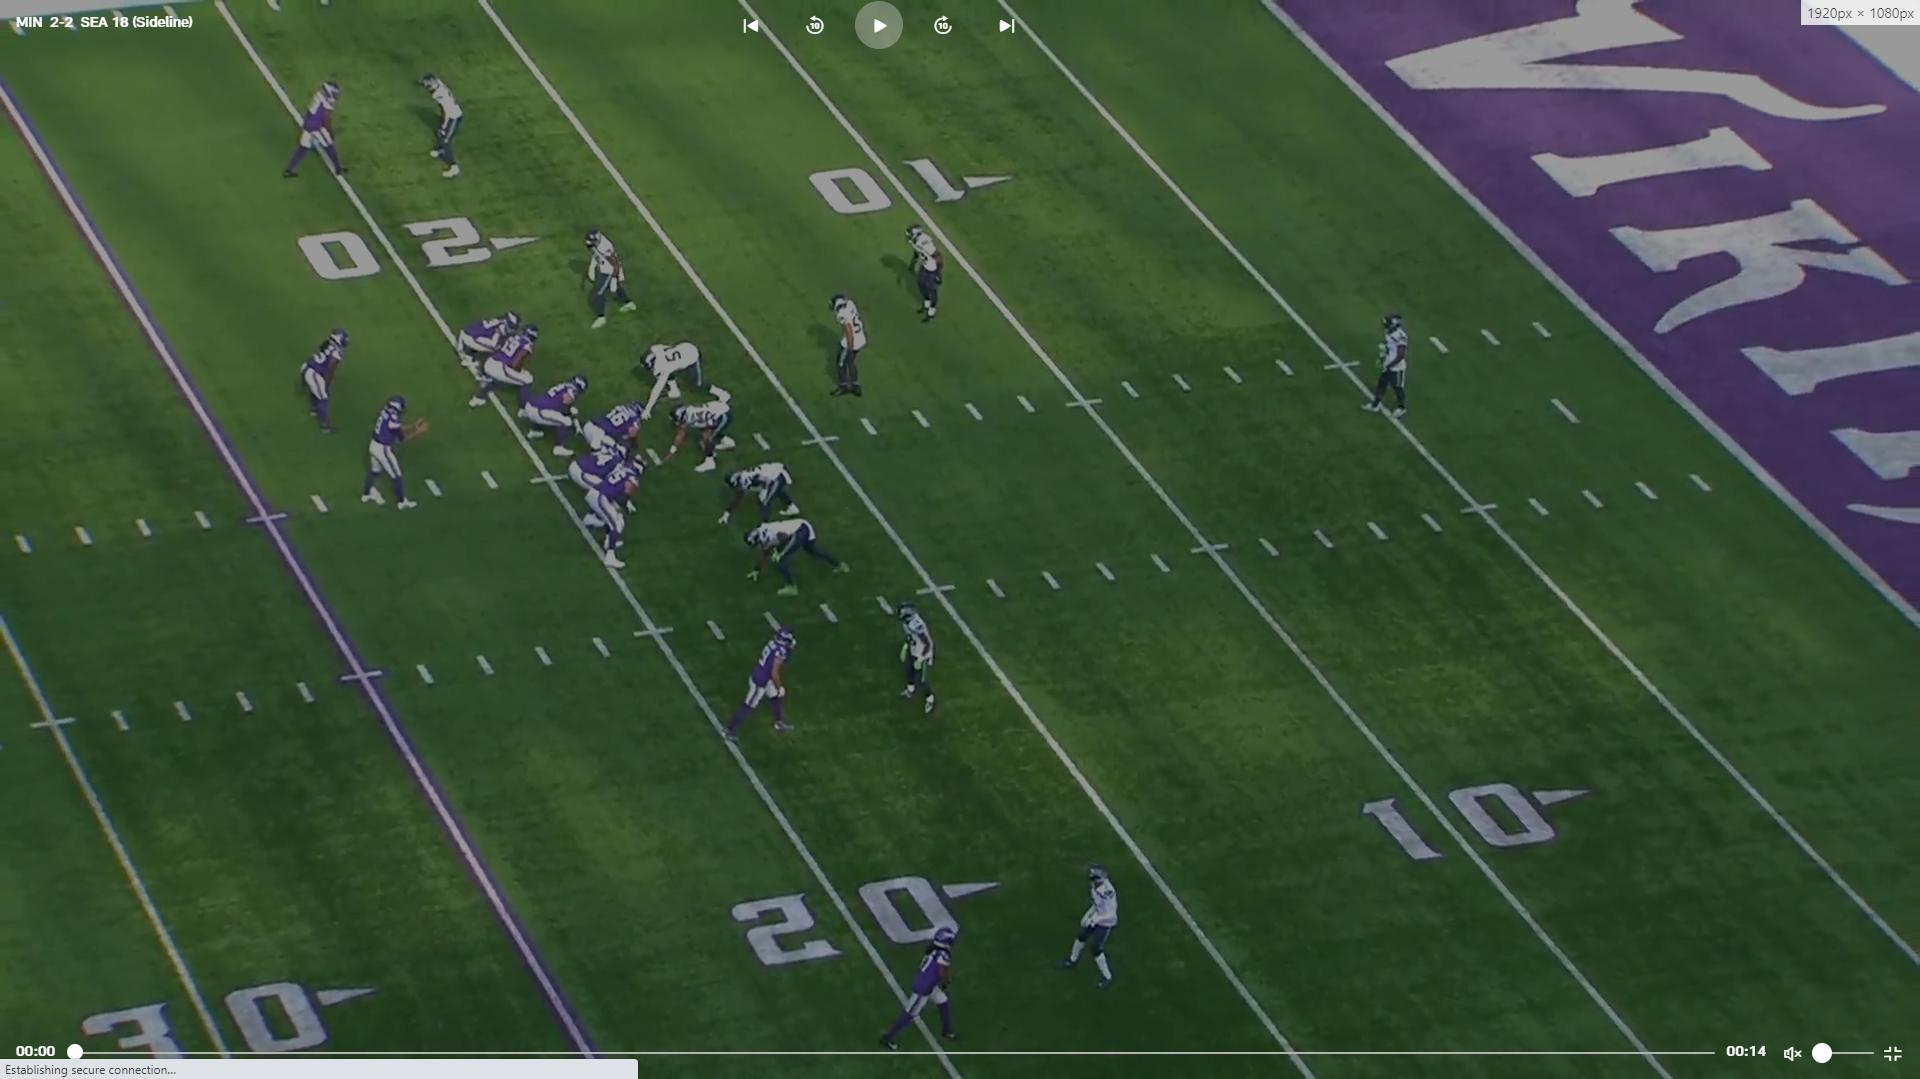defense: (748, 522, 857, 603), (1056, 860, 1122, 991), (889, 596, 942, 722), (717, 462, 807, 532), (1362, 310, 1418, 422), (578, 228, 636, 334), (642, 340, 731, 409), (417, 67, 468, 183), (659, 406, 740, 476), (903, 216, 952, 326), (829, 290, 872, 408)
oline: (587, 460, 647, 575), (473, 324, 546, 419), (522, 372, 591, 456), (568, 442, 633, 530), (587, 402, 651, 470)
qb: (359, 393, 423, 516)
skill: (880, 923, 969, 1047), (720, 621, 803, 744), (282, 75, 352, 186), (302, 324, 353, 438), (455, 309, 517, 388)
